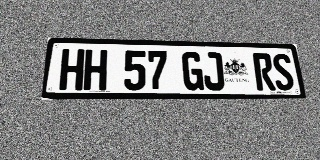5: (124, 50, 146, 90)
7: (146, 51, 168, 90)
G: (182, 51, 204, 90)
H: (59, 49, 85, 90), (83, 49, 107, 90)
J: (202, 52, 225, 90)
R: (252, 53, 276, 90)
S: (271, 53, 295, 90)
